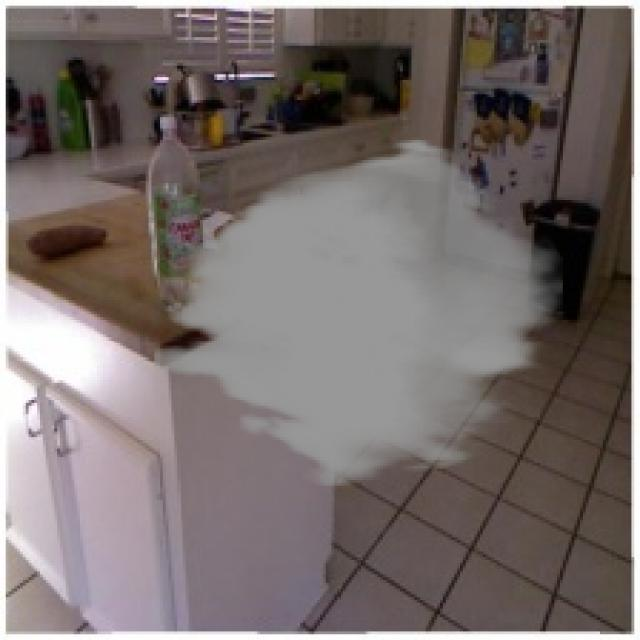smoke: (154, 137, 563, 489)
